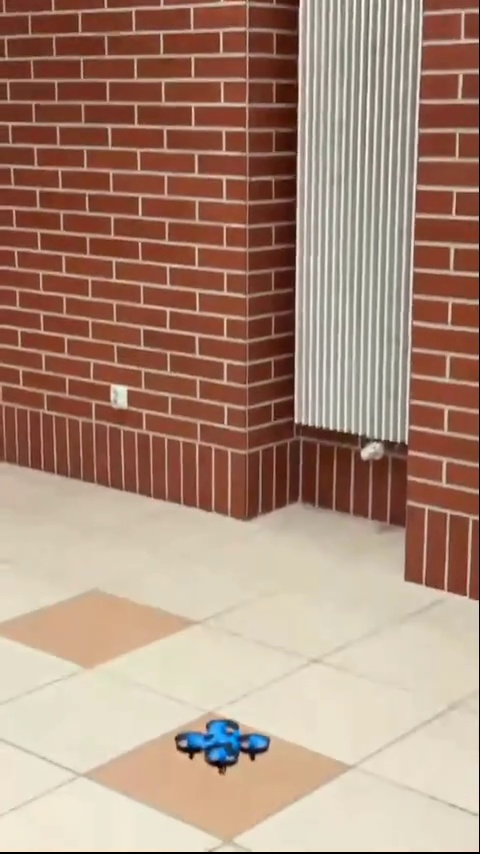drone: (179, 718, 276, 779)
